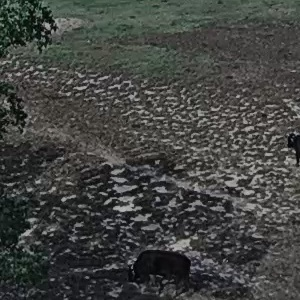cow: (110, 234, 204, 290)
